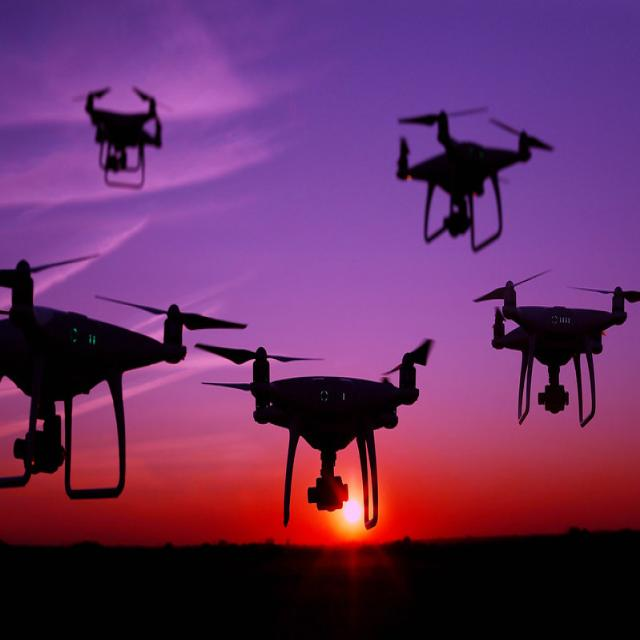drone: (0, 246, 258, 511), (193, 325, 440, 536), (474, 261, 640, 427), (393, 92, 553, 255), (70, 68, 172, 194)
